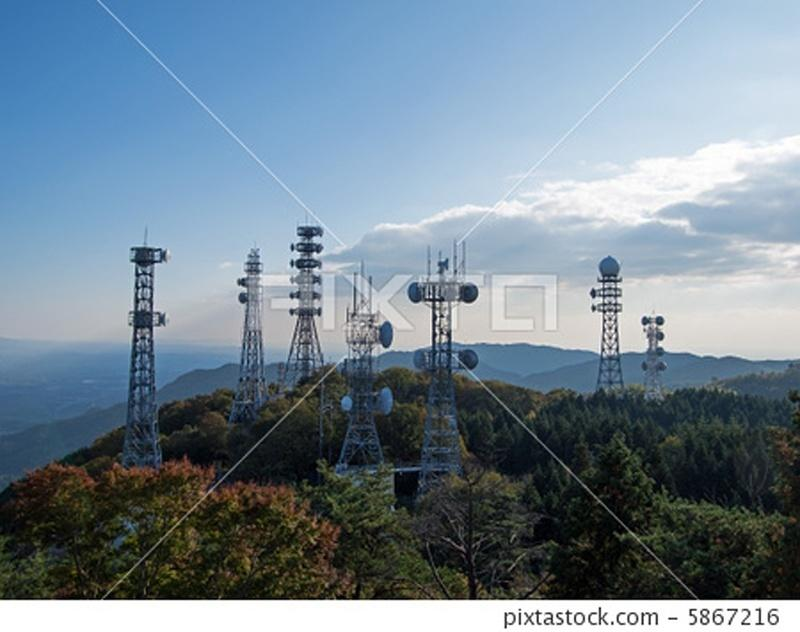power_tower: (412, 255, 490, 501), (114, 238, 171, 458), (279, 211, 324, 392), (227, 236, 269, 420), (589, 248, 632, 383)
